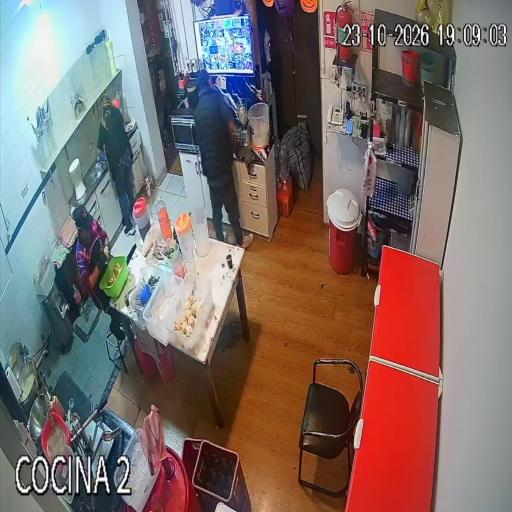Envase Llajua: (51, 395, 64, 418)
Jarra1: (133, 197, 150, 238)
Jarra2: (175, 213, 195, 265)
Jarra3: (190, 207, 210, 257)
Microondas: (171, 109, 211, 152)
Persona1: (194, 70, 252, 247)
Persona2: (73, 206, 125, 342)
Persona3: (97, 96, 134, 232)
Taper2: (128, 266, 170, 328)
Taper3: (143, 273, 182, 344)
Taper4: (163, 273, 214, 359)
